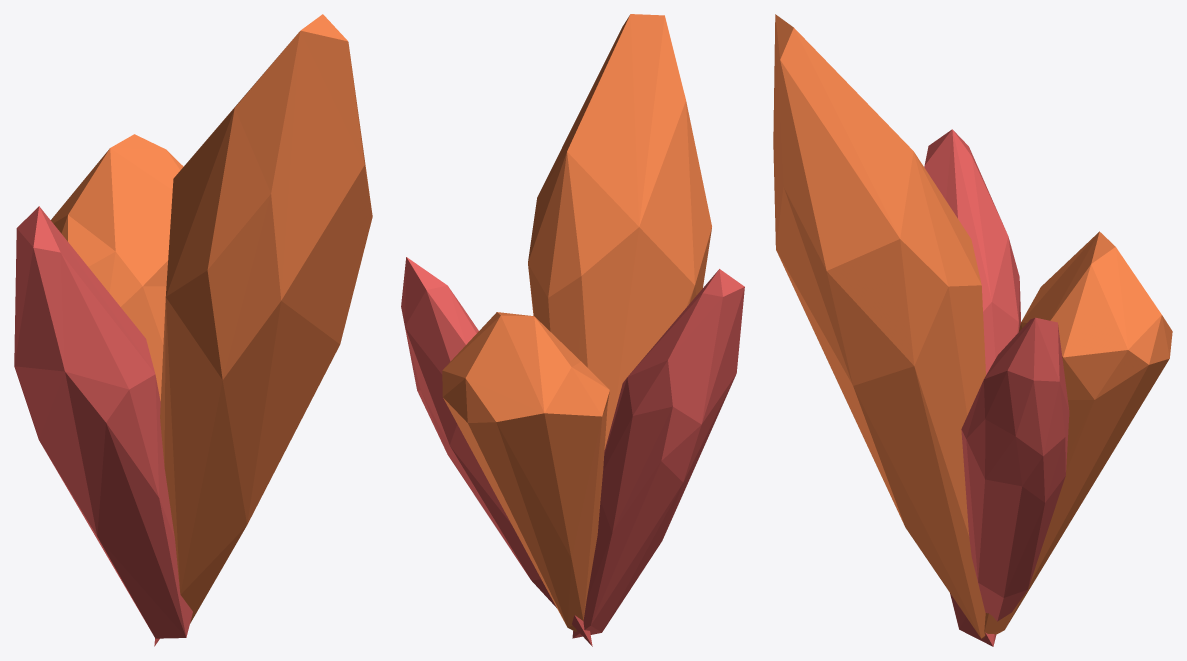
The model's file is jewel_orange_mini.fbx.
3 renders of one model, left to right at view 1: azimuth 30°, elevation 25°; view 2: azimuth 150°, elevation 25°; view 3: azimuth 270°, elevation 25°, orthographic. The views are drawn at different scales.
Visible parts, largest first — view 1: Cube; view 2: Cube; view 3: Cube.
Boxes of the visible parts, box(x1,y1,x2,y2) form: Cube: box(14, 14, 372, 646); Cube: box(401, 14, 744, 646); Cube: box(773, 14, 1172, 646).
Size of the model in its own units: 286 by 511 by 289.
